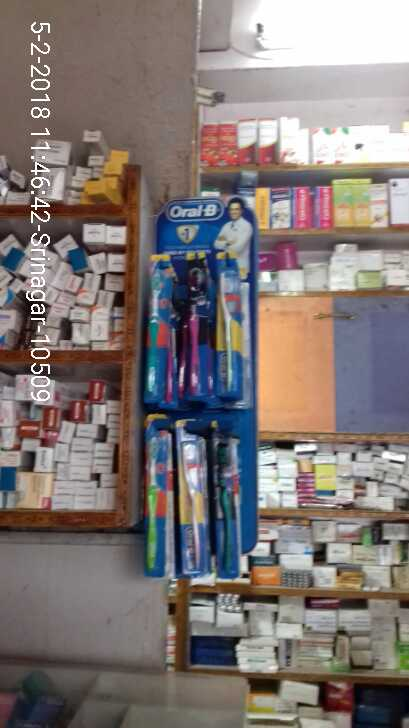oralb: (207, 258, 248, 399), (216, 434, 246, 574), (144, 427, 168, 567), (146, 255, 168, 400), (184, 255, 207, 393), (183, 434, 204, 581)
